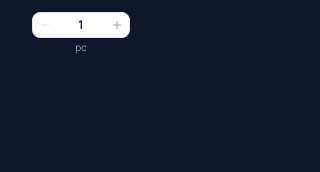
Test: SmartQtyInput strict quantity validation › rejects a zero quantity instead of silently turning it into one
This screenshot has width=320, height=172.
Replace the text in the field titled "enter quantity" with "0" at (81, 25), box [57,13,105,37]
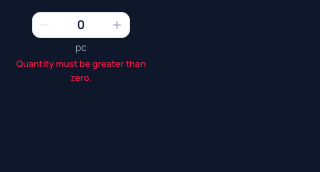
expect the message shows "greater than zero": met, box [16,57,146,84]
